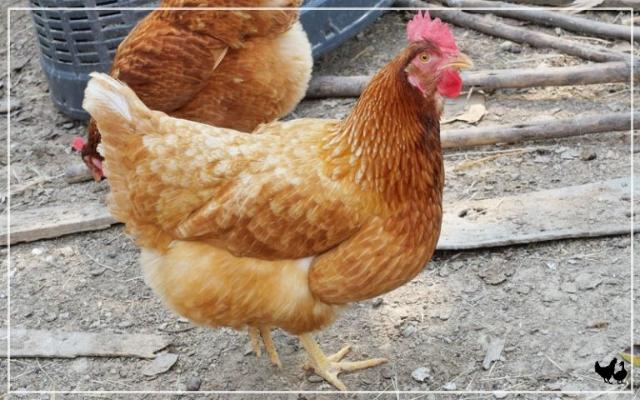Chicken: (82, 12, 474, 390), (73, 0, 314, 182)
